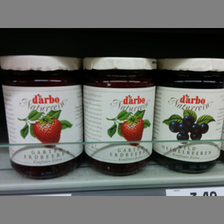jam: (1, 55, 82, 180), (83, 57, 157, 177), (154, 59, 224, 175)
